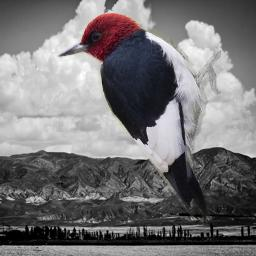Woodpecker: (49, 9, 221, 224)
